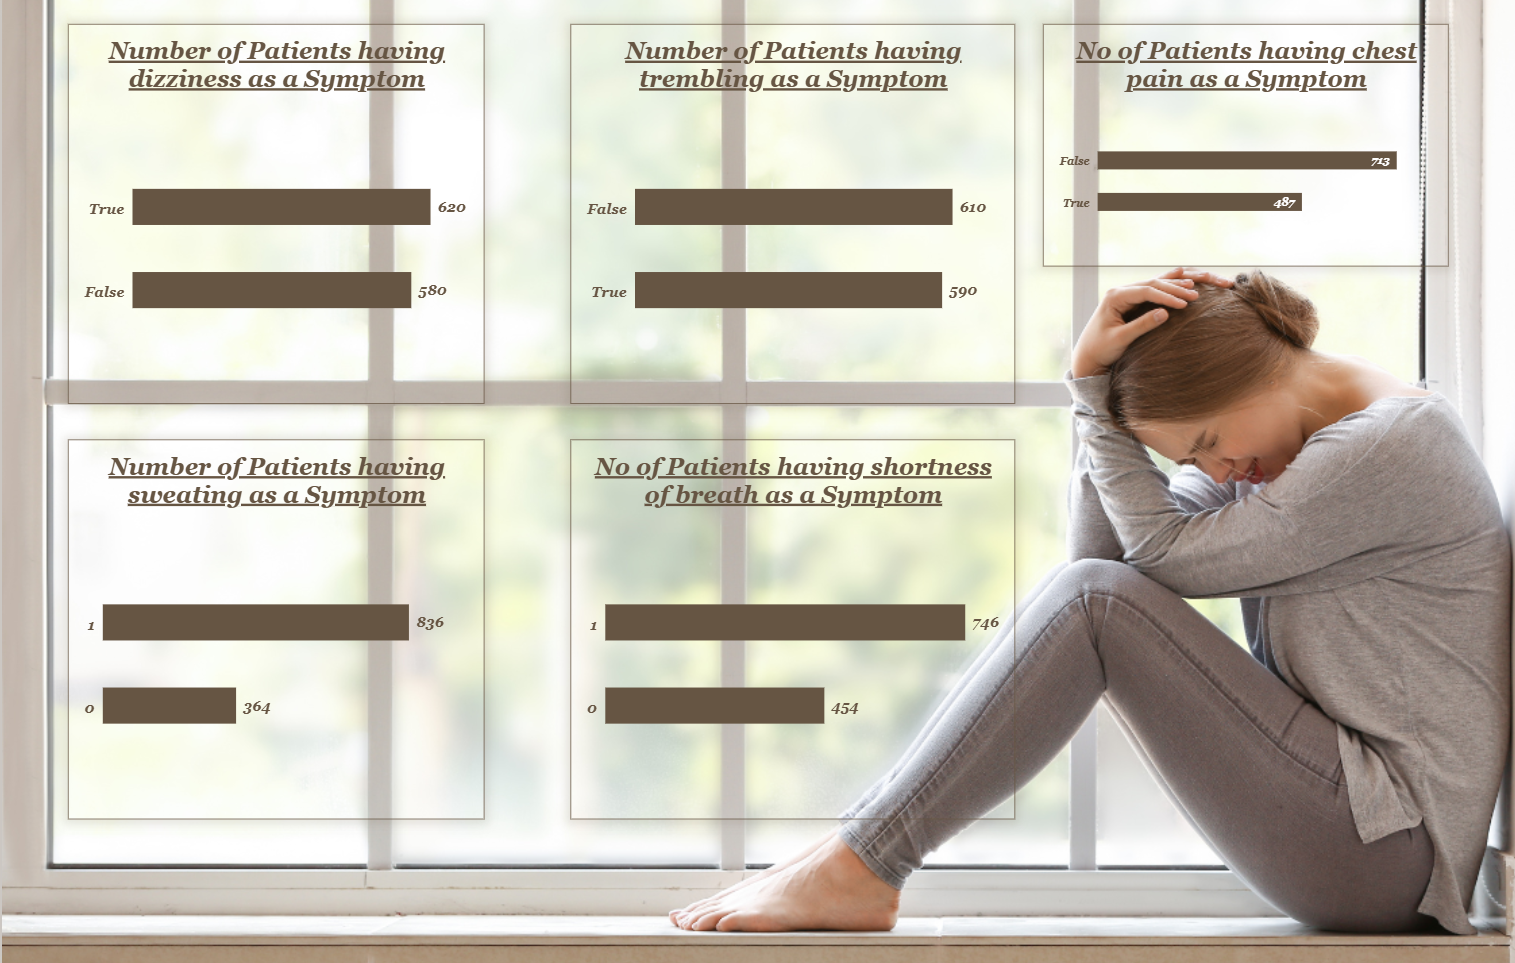

The dashboard page shown, as its layout file describes it:
{"tool":"powerbi","page":{"name":"Number of Patients by Symptoms","canvas":[1920,1080],"ordinal":1},"visuals":[{"type":"barChart","title":"Number of Patients having dizziness as a Symptom","fields":{"Category":["PANIC_ATTACK_DATA.DIZZINESS"],"Y":["CountNonNull(PANIC_ATTACK_DATA.ID)"]},"box":[74,26.2,462.9,422.3],"z":0},{"type":"barChart","title":"Number of Patients having trembling as a Symptom","fields":{"Category":["PANIC_ATTACK_DATA.TREMBLING"],"Y":["CountNonNull(PANIC_ATTACK_DATA.ID)"]},"box":[632.3,26.2,493.9,422.3],"z":1000},{"type":"barChart","title":"Number of Patients having sweating as a Symptom","fields":{"Category":["PANIC_ATTACK_DATA.SWEATING"],"Y":["CountNonNull(PANIC_ATTACK_DATA.ID)"]},"box":[74,489.1,462.9,422.3],"z":2000},{"type":"barChart","title":"No of Patients having shortness of breath as a Symptom","fields":{"Category":["PANIC_ATTACK_DATA.SHORTNESS_OF_BREATH"],"Y":["CountNonNull(PANIC_ATTACK_DATA.ID)"]},"box":[632.3,489.1,493.9,422.3],"z":3000},{"type":"barChart","title":"No of Patients having chest pain as a Symptom","fields":{"Category":["PANIC_ATTACK_DATA.CHEST_PAIN"],"Y":["CountNonNull(PANIC_ATTACK_DATA.ID)"]},"box":[1157.2,26.2,450.9,269.6],"z":4000}]}

Visuals, with their boxes on the page's 1920x1080 design canvas (x1, y1, x2, y2). These are canvas units, not pixel positions in the 1515x963 screenshot, which may show the page scaled, cropped or inside an application window:
"Number of Patients having dizziness as a Symptom" barChart: locate(74, 26, 537, 448)
"Number of Patients having trembling as a Symptom" barChart: locate(632, 26, 1126, 448)
"Number of Patients having sweating as a Symptom" barChart: locate(74, 489, 537, 911)
"No of Patients having shortness of breath as a Symptom" barChart: locate(632, 489, 1126, 911)
"No of Patients having chest pain as a Symptom" barChart: locate(1157, 26, 1608, 296)
